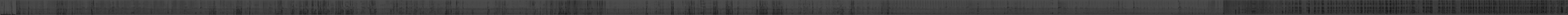Moan: (1493, 0, 1497, 15), (1360, 0, 1363, 15), (1540, 0, 1543, 15), (1308, 0, 1310, 15)
